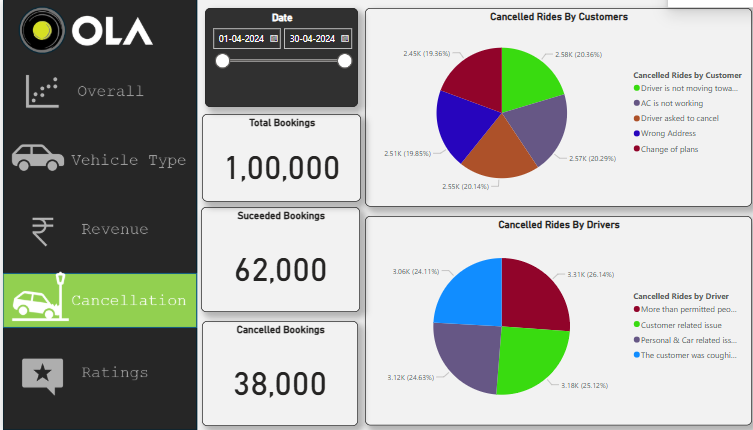

Layout of this report page (visuals, bound fields, positions):
{"tool":"powerbi","page":{"name":"Cancellation","canvas":[1280,720],"ordinal":3},"visuals":[{"type":"actionButton","box":[0,573.3,325,93.3],"z":0},{"type":"actionButton","box":[0,336.7,325,93.3],"z":1000},{"type":"actionButton","box":[0,225,325,93.3],"z":2000},{"type":"actionButton","box":[0,110,325,93.3],"z":3000},{"type":"pieChart","title":"Cancelled Rides By Customers","fields":{"Category":["Bookings.Reason for cancelling by Customer"],"Y":["CountNonNull(Bookings.Cancelled Rides by Customer)"]},"box":[603,13.4,645,330.9],"z":4000},{"type":"pieChart","title":"Cancelled Rides By Drivers","fields":{"Category":["Bookings.Reason for cancelling by Driver"],"Y":["CountNonNull(Bookings.Booking Status)"]},"box":[603,359.5,645,349.4],"z":5000},{"type":"slicer","title":"Date","fields":{"Values":["Bookings.Date"]},"box":[336,13.4,255.3,164.6],"z":5001},{"type":"card","title":"Total Bookings","fields":{"Values":["CountNonNull(Bookings.Booking ID)"]},"box":[330.9,189.8,265.4,146.1],"z":5002},{"type":"card","title":"Suceeded Bookings","fields":{"Values":["CountNonNull(Bookings.Booking ID)"]},"box":[329.2,344.4,265.4,174.7],"z":5003},{"type":"card","title":"Cancelled Bookings","fields":{"Values":["CountNonNull(Bookings.Booking ID)"]},"box":[330.9,534.2,260.4,174.7],"z":5004}]}

Visuals, with their boxes in screenshot pixels (x1, y1, x2, y2):
actionButton: [left=0, top=343, right=195, bottom=399]
actionButton: [left=0, top=201, right=195, bottom=257]
actionButton: [left=0, top=133, right=195, bottom=189]
actionButton: [left=0, top=64, right=195, bottom=120]
"Cancelled Rides By Customers" pieChart: [left=363, top=6, right=751, bottom=205]
"Cancelled Rides By Drivers" pieChart: [left=363, top=214, right=751, bottom=424]
"Date" slicer: [left=202, top=6, right=356, bottom=105]
"Total Bookings" card: [left=199, top=112, right=359, bottom=200]
"Suceeded Bookings" card: [left=198, top=205, right=358, bottom=310]
"Cancelled Bookings" card: [left=199, top=319, right=356, bottom=424]
